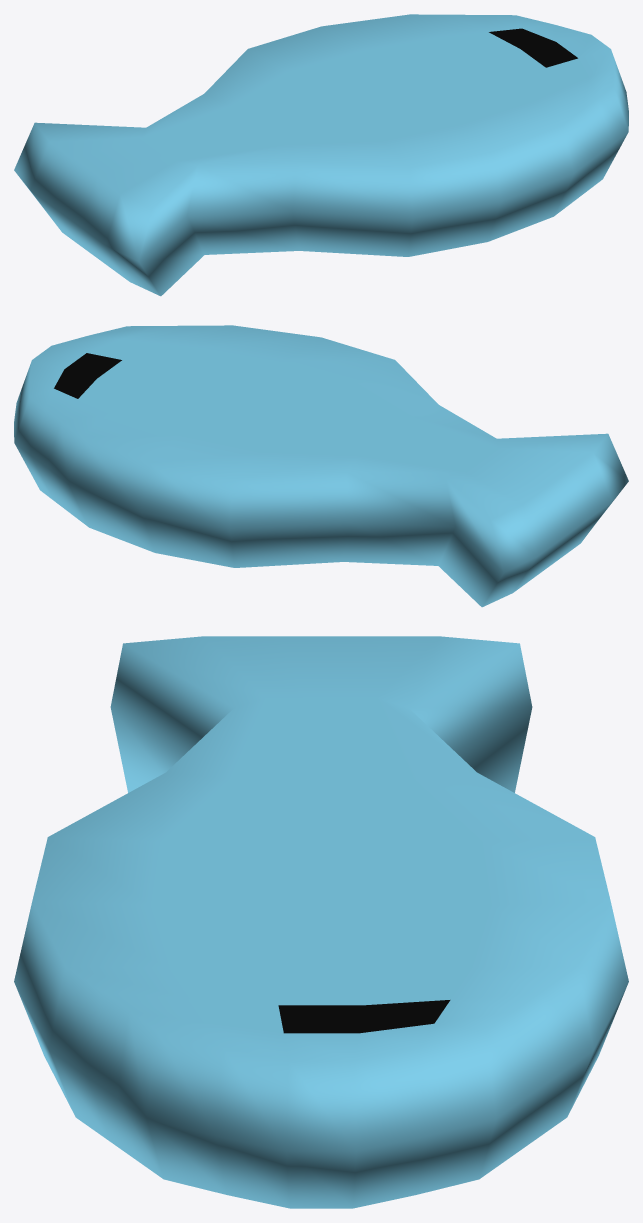
The model's file is fish.fbx.
The picture shows the model from 3 angles, top to bottom: view 1: azimuth 30°, elevation 25°; view 2: azimuth 150°, elevation 25°; view 3: azimuth 270°, elevation 25°; orthographic projection. The views are drawn at different scales.
Parts seen in each view (by area): view 1: Cube; view 2: Cube; view 3: Cube.
Boxes of the visible parts, x1=… form: Cube: x1=14, y1=14, x2=628, y2=296; Cube: x1=14, y1=325, x2=628, y2=607; Cube: x1=14, y1=636, x2=628, y2=1208.
Bounding box in the file's own units: 95.76 × 166 × 26.7.
